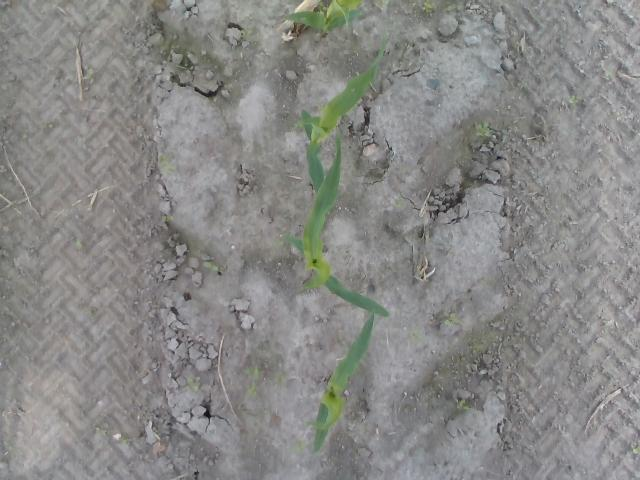Maize: (286, 125, 392, 318), (293, 38, 388, 196), (306, 310, 376, 452), (280, 1, 362, 35)
Weeds: (245, 366, 261, 395), (443, 310, 460, 330), (474, 122, 492, 139), (158, 156, 172, 176), (276, 372, 288, 392), (293, 440, 310, 454), (83, 68, 96, 84), (202, 261, 220, 272), (187, 376, 200, 390), (423, 1, 438, 13), (456, 400, 472, 410), (392, 199, 406, 210), (412, 330, 422, 344), (240, 30, 253, 38), (570, 96, 582, 104), (122, 439, 132, 448), (162, 216, 176, 222), (76, 241, 85, 249), (276, 240, 285, 246)
